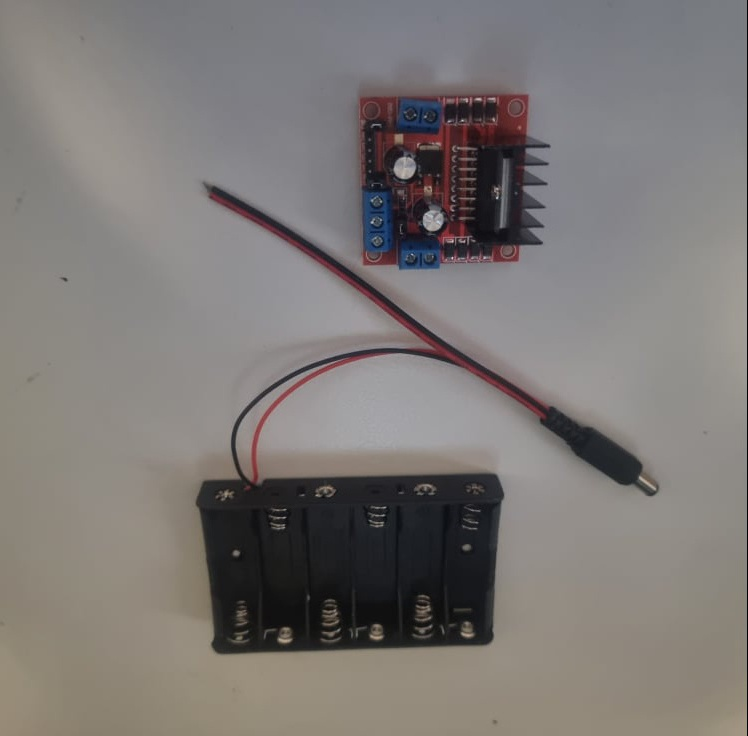BATTERY BOX: (195, 476, 506, 652)
MOTOR: (360, 96, 551, 270)
